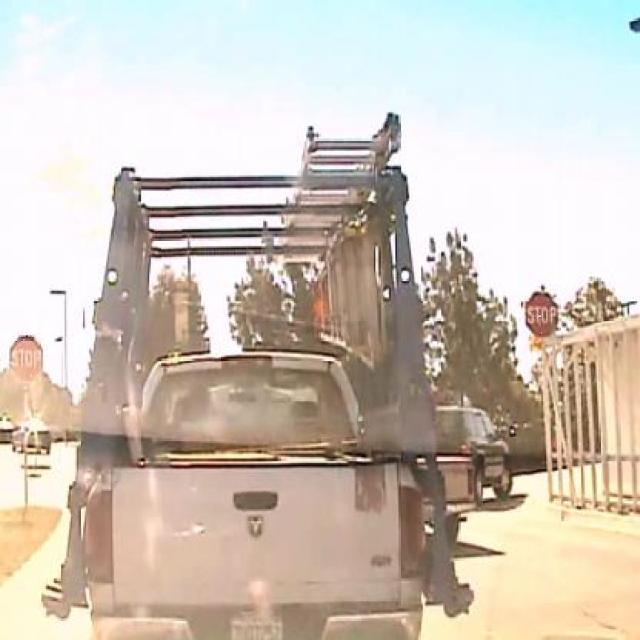stop: (524, 291, 558, 336), (9, 336, 43, 380)
